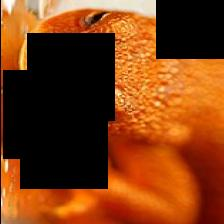green: (44, 142, 197, 224), (178, 109, 223, 224), (178, 0, 224, 50)
orange: (19, 10, 223, 145)
